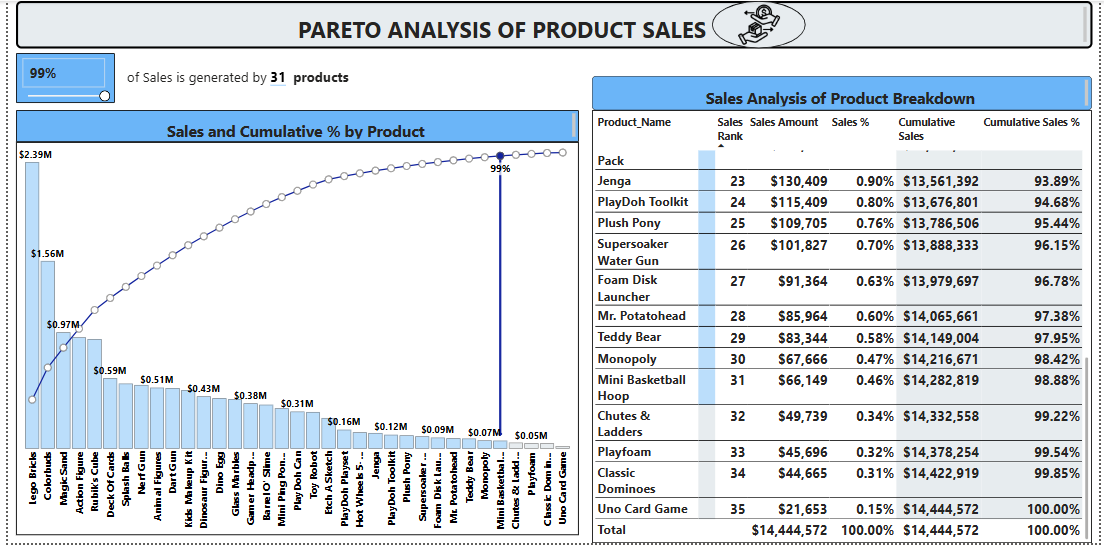

This screenshot's page, from the dashboard's own definition file:
{"tool":"powerbi","page":{"name":"Page 1","canvas":[2619,1300],"ordinal":0},"visuals":[{"type":"pivotTable","title":"TABLE","fields":{"Values":["sales._Blank","sales.Product Rank by Sales","sales.Sales Amount","sales.Sales %","sales.Cumulative Sales","sales.Cumulative %"],"Rows":["products.Product_Name"]},"box":[1400.7,261.4,1199.3,1038.6],"z":0},{"type":"lineClusteredColumnComboChart","title":"Sales and Cumulative % by Product","fields":{"Category":["products.Product_Name"],"Y":["sales.Sales Amount"],"Y2":["sales.Cumulative Sales %","sales.Cutoff Sales %"]},"box":[19.2,338.2,1350.4,942.6],"z":1000},{"type":"slicer","fields":{"Values":["Parameter2.Parameter2"]},"box":[19.2,124.7,237.5,119.9],"z":2000},{"type":"textbox","box":[280.6,153.5,618.8,67.2],"z":3000},{"type":"textbox","box":[1400.7,179.9,1199.3,81.5],"z":4000},{"type":"textbox","box":[18.5,0,2581.5,113.6],"z":5000},{"type":"shape","box":[1688.4,0,224.6,113.6],"z":5500},{"type":"textbox","box":[18.5,261.6,1350.2,76.6],"z":6000},{"type":"image","box":[1706.9,0,187.6,113.6],"z":8000}]}

Visuals, with their boxes in screenshot pixels (x1, y1, x2, y2), scaled from the page's 2619x1300 canvas onto the 1104x551 screenshot:
"TABLE" pivotTable: (590,111,1096,550)
"Sales and Cumulative % by Product" lineClusteredColumnComboChart: (8,143,577,543)
slicer - Parameter2.Parameter2: (8,53,108,104)
textbox: (118,65,379,94)
textbox: (590,76,1096,111)
textbox: (8,0,1096,48)
shape: (712,0,806,48)
textbox: (8,111,577,143)
image: (720,0,799,48)
